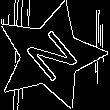N_SE: (17, 24, 83, 88)
